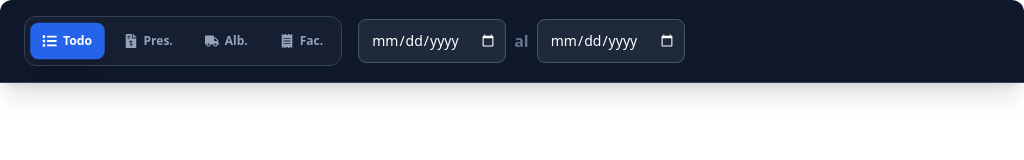
Test case: DateRangeFilter › muestra el botón de limpiar solo cuando hay filtros activos
The image size is (1024, 160).
Click the button named "Filtrar por Factura" at (302, 41), box [268,23,335,59]
Wait 500 ms
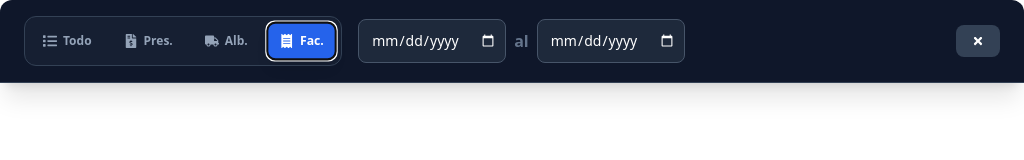
Expected: the button named "Limpiar filtros" is shown, [956,25,1000,57]
